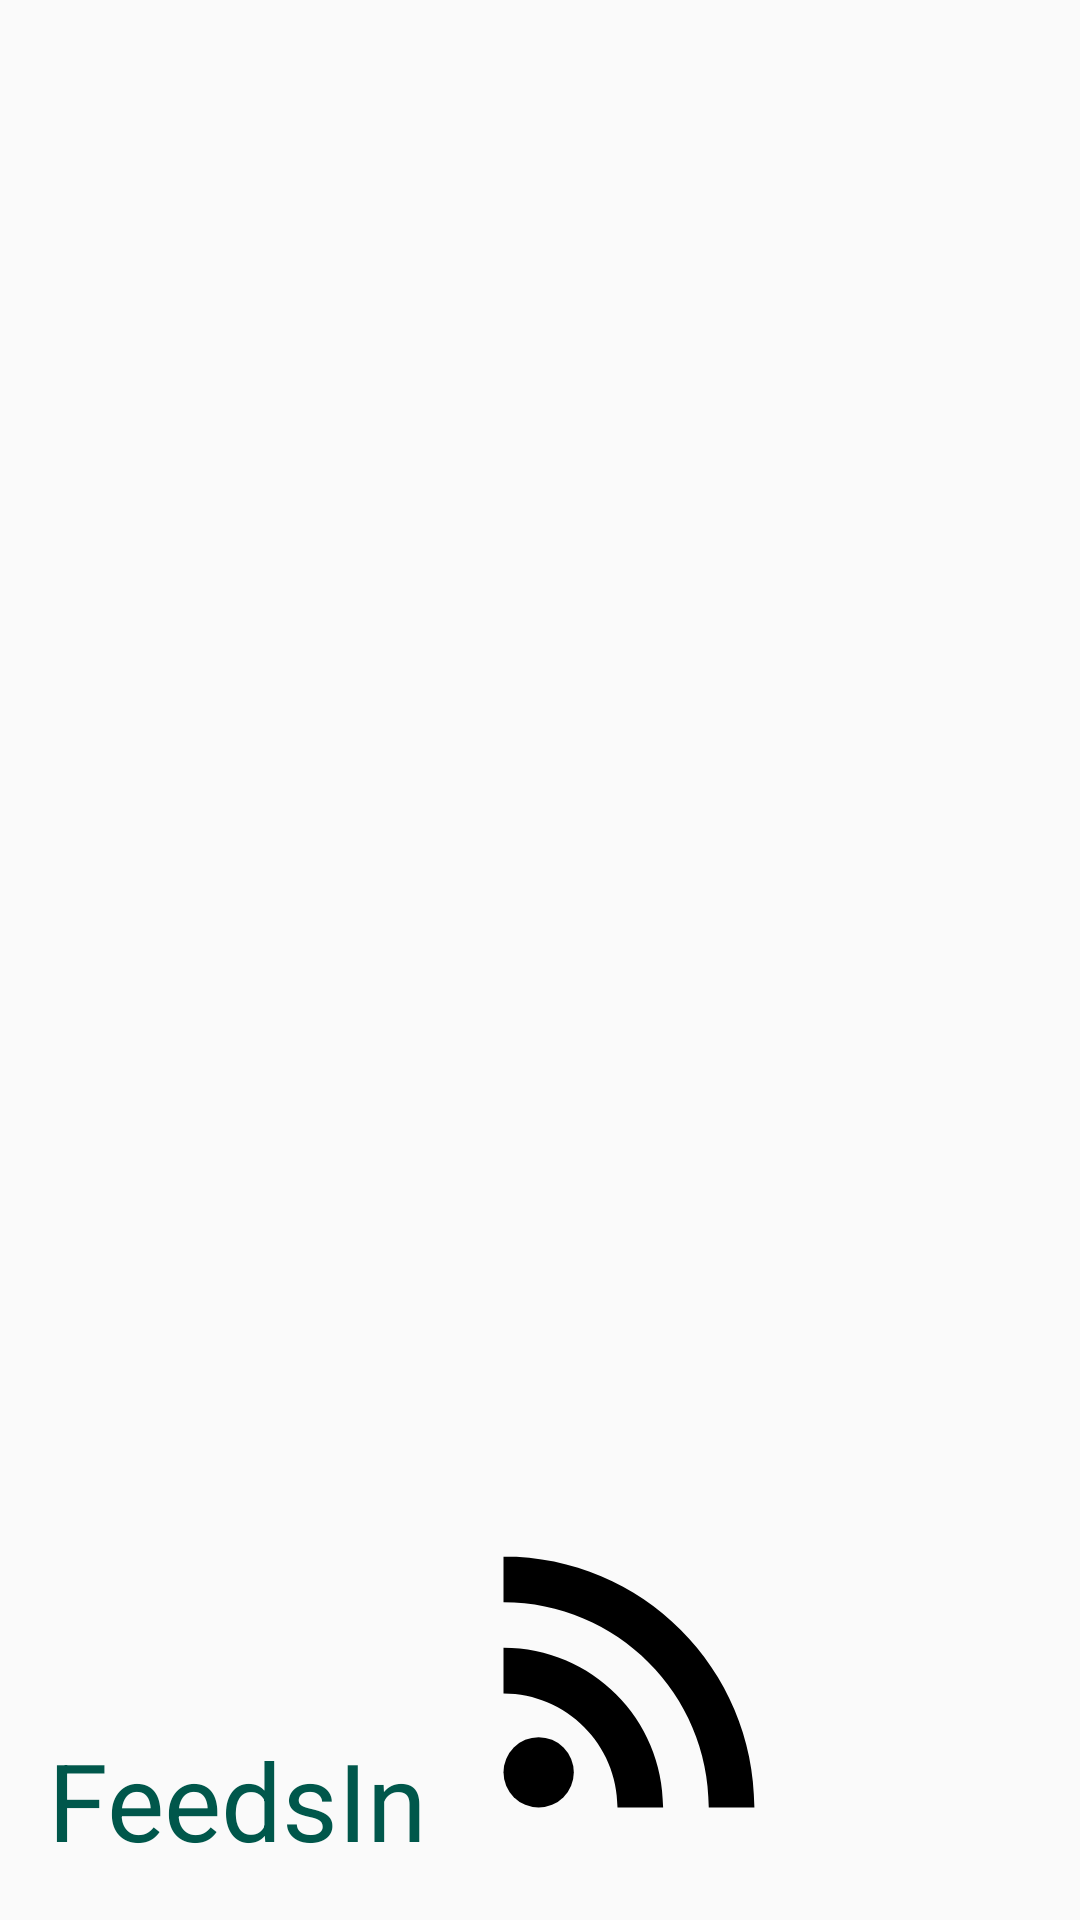

Locate icon controls on the screen. Image size 1080*1920, boxes as bbox=[x1, y1, x2, y2].
rss feed: bbox=[503, 1556, 755, 1808]
